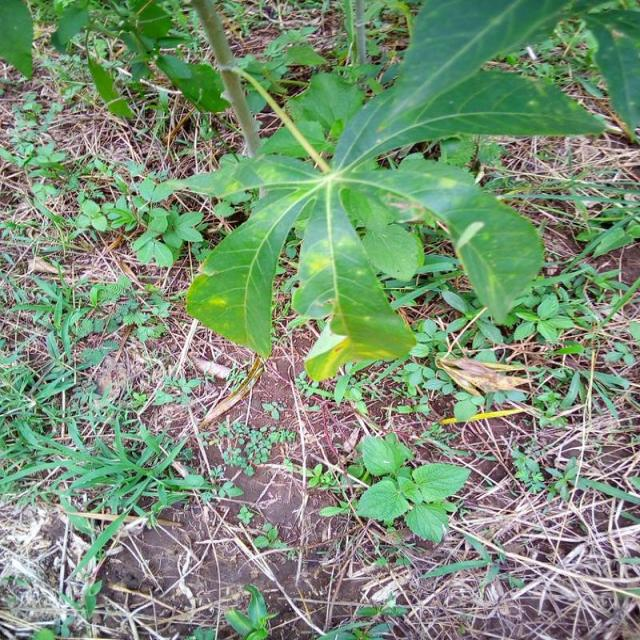cassava leaf: (170, 0, 636, 380)
